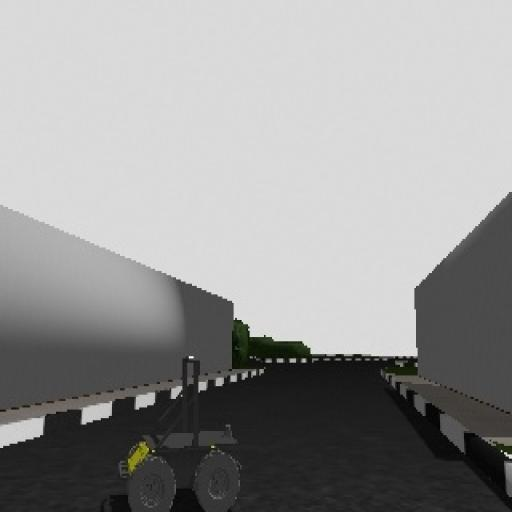huskya200: (98, 348, 248, 512)
